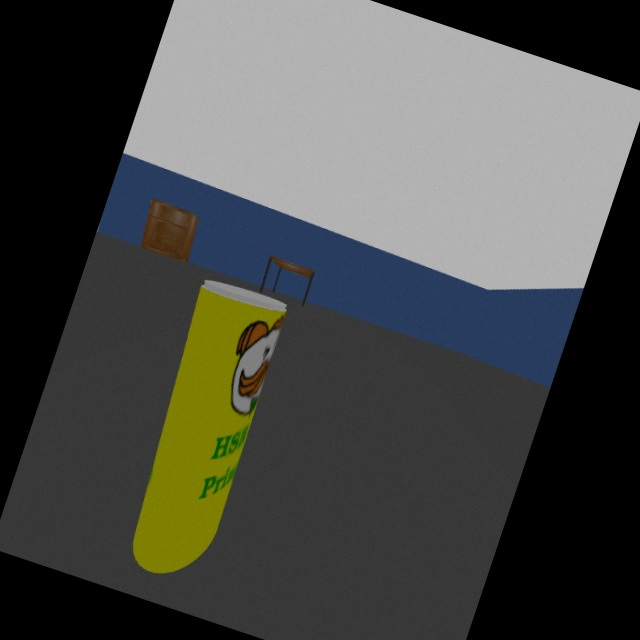chipsdose_gelb: (130, 279, 287, 577)
